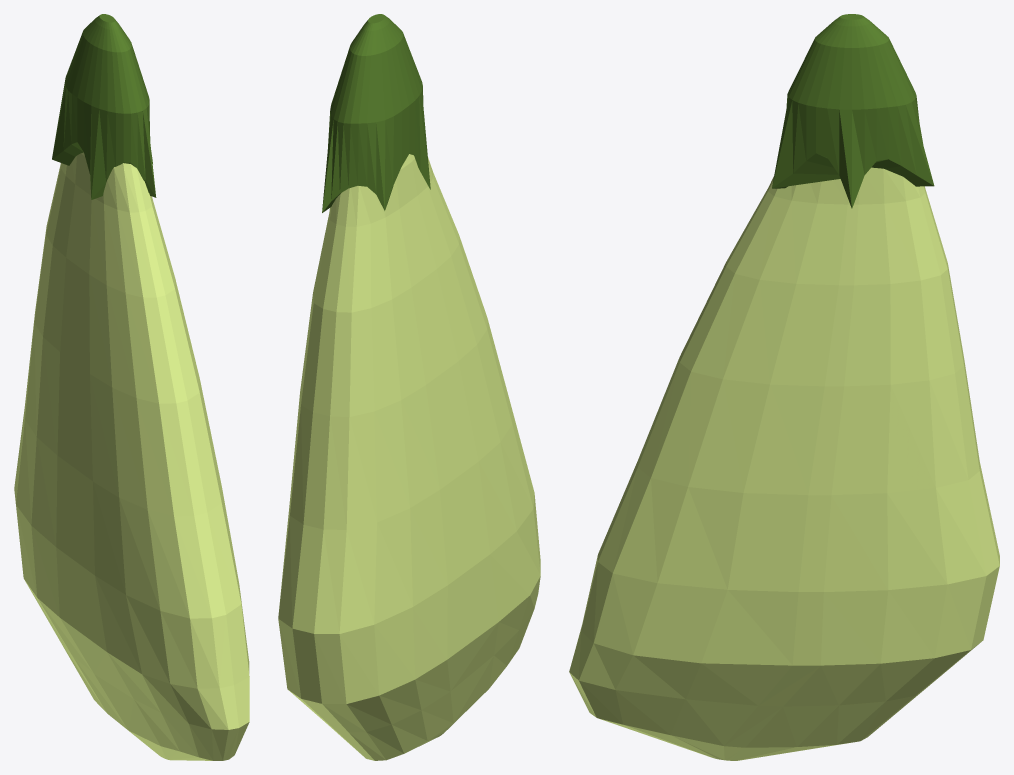
The model's file is CowpeaFlower_closed_yellow.obj.
3 views of the same model, side by side, from view 1: azimuth 30°, elevation 25°; view 2: azimuth 150°, elevation 25°; view 3: azimuth 270°, elevation 25° (orthographic). The views are drawn at different scales.
Visible parts, largest first — view 1: petals, bract; view 2: petals, bract; view 3: petals, bract.
Part boxes in pixels (x1,y1,x2,y2): petals: (14,152,249,760); bract: (52,14,156,199); petals: (278,154,540,760); bract: (322,14,430,212); petals: (569,167,999,760); bract: (772,14,934,208).
Size of the model in its own units: 0.1985 by 1.14 by 0.5956.
